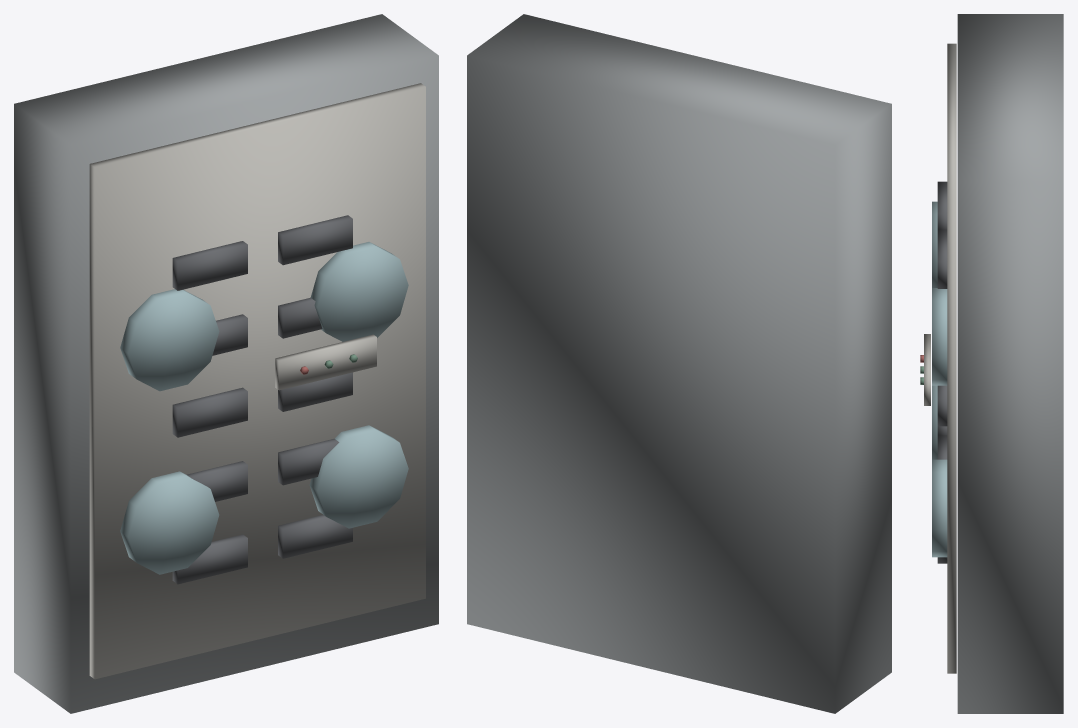
Rendered from meter_bank.glb.
3 renders of one model, left to right at view 1: azimuth 30°, elevation 25°; view 2: azimuth 150°, elevation 25°; view 3: azimuth 270°, elevation 25°, orthographic. The views are drawn at different scales.
Parts seen in each view (by area): view 1: world; view 2: world; view 3: world.
Boxes of the visible parts, x1,y1,x2,y2 form: world: (14,14,438,713); world: (467,14,891,713); world: (920,14,1063,713).
Size of the model in its own units: 1.05 by 1.55 by 0.3785.
